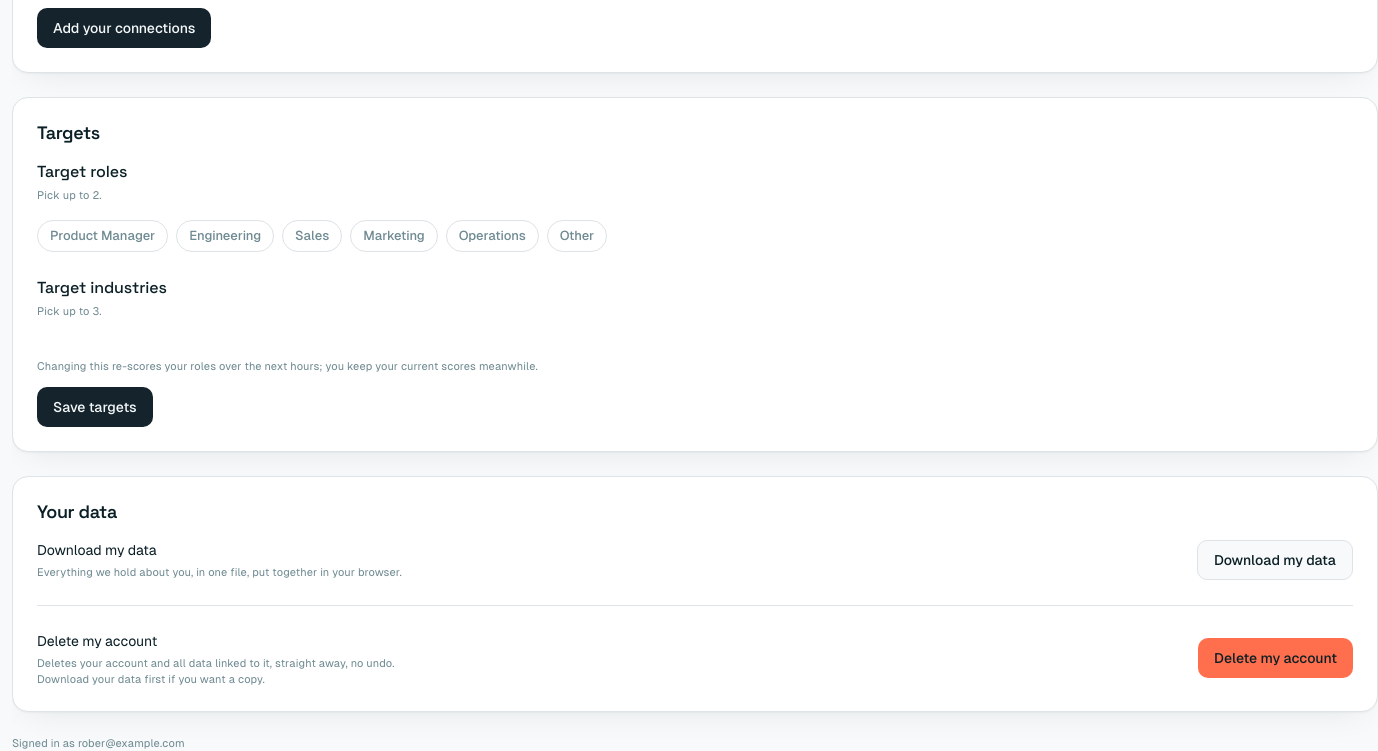
SettingsPanel — account section (issue #84, restructured #156) › the typed word (any case) unlocks the delete, and Cancel backs out clean
The image size is (1378, 751).
(page scrolled)
Click the button "Delete my account".
click(1276, 658)  # box x1=1198 y1=638 x2=1353 y2=678
(page scrolled)
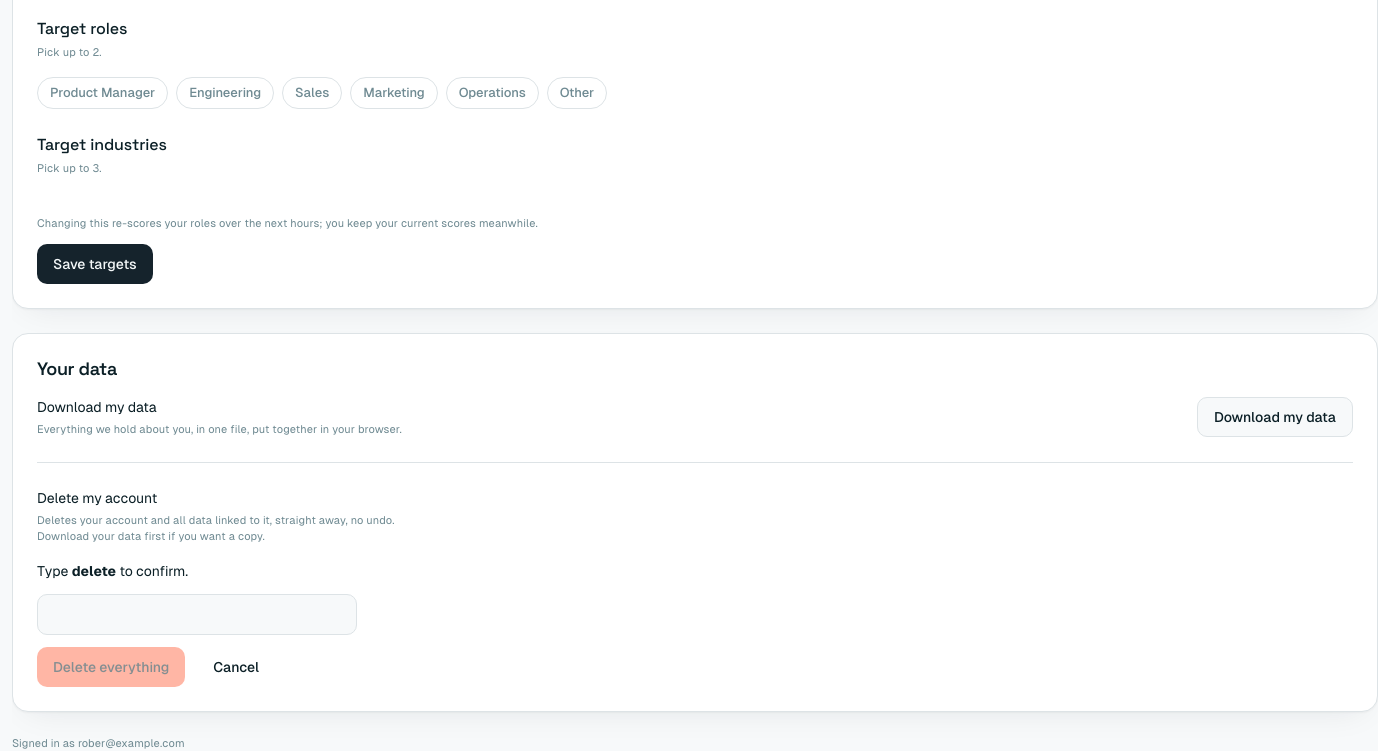
Type " DELETE " into the field labelled "Type delete to confirm.".
click(197, 615); type(" DELETE ")  # box x1=37 y1=594 x2=357 y2=635
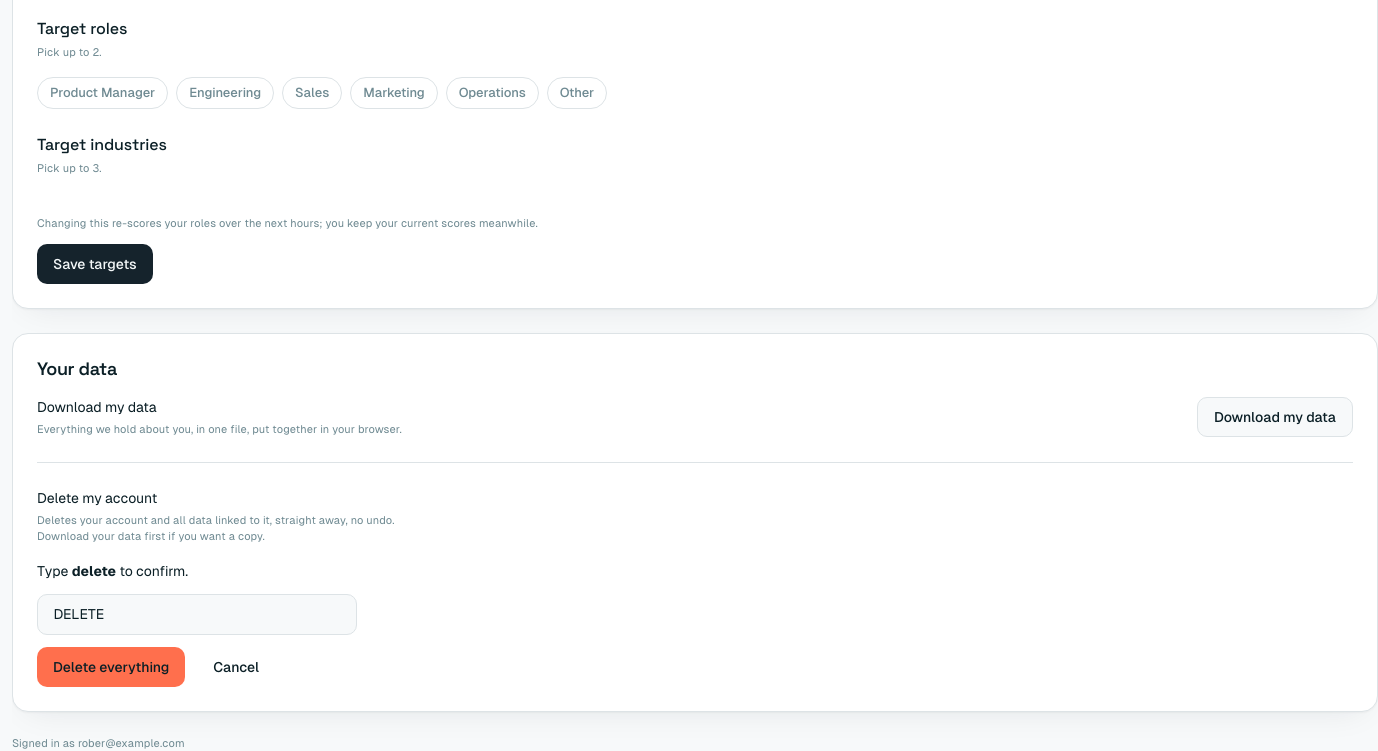
Click the button "Cancel".
click(236, 667)  # box x1=197 y1=647 x2=275 y2=687
(page scrolled)
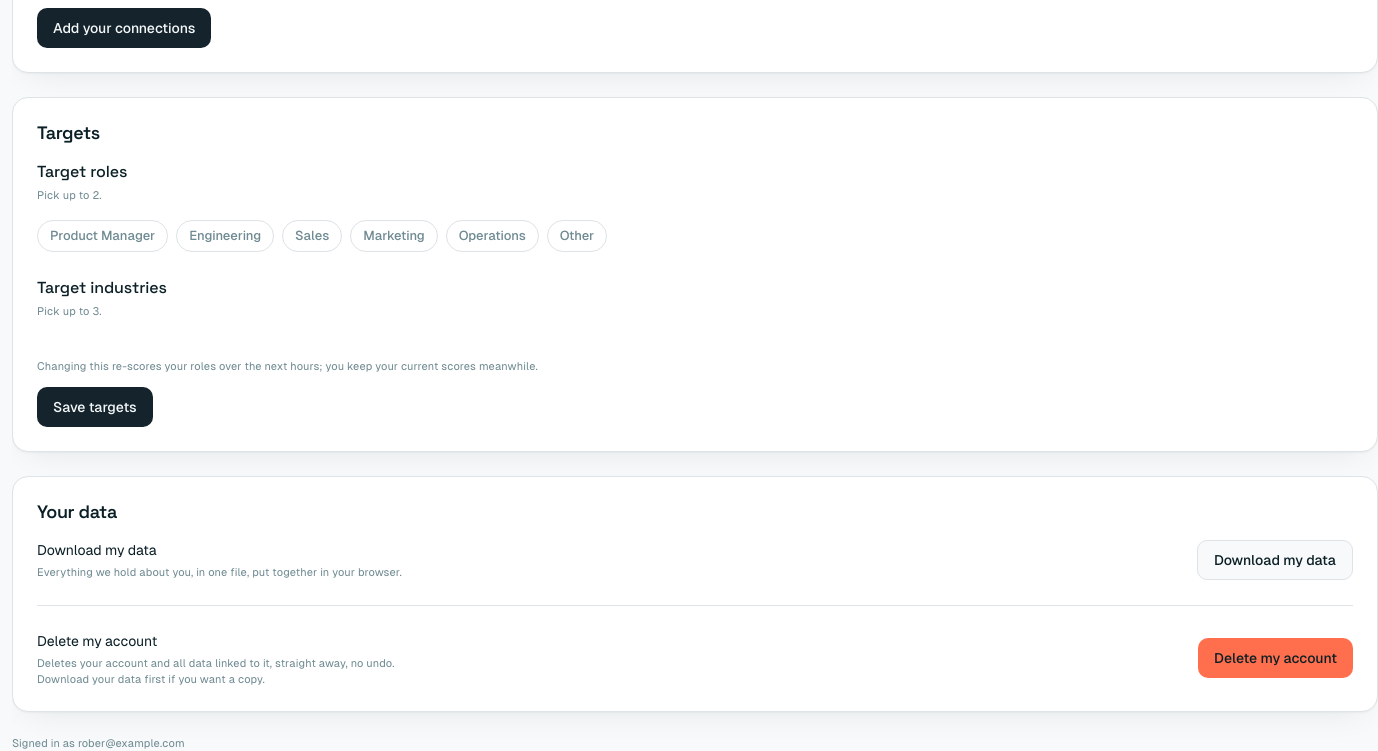
Check: the button "Delete everything" is gone
Click the button "Delete my account".
click(1276, 658)  # box x1=1198 y1=638 x2=1353 y2=678
(page scrolled)
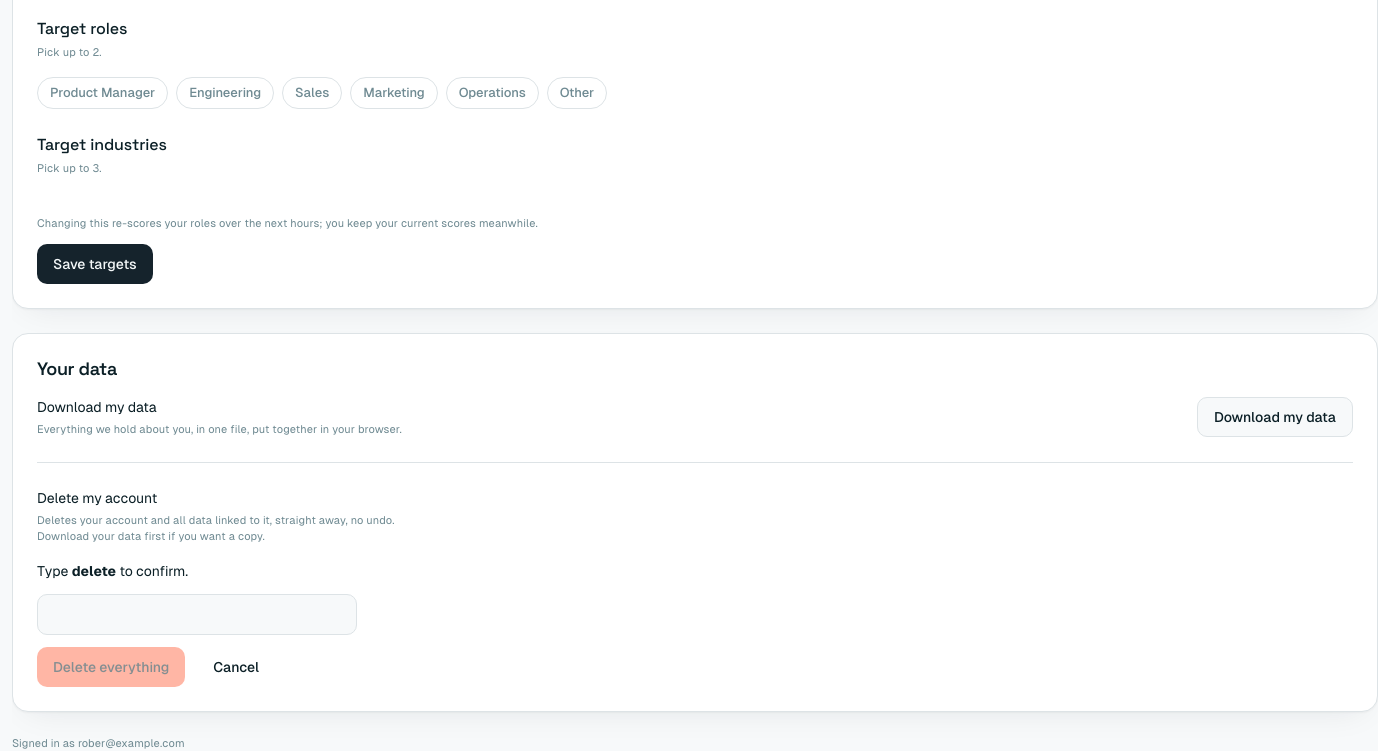
Check: the button "Delete everything" is disabled, box x1=37 y1=647 x2=185 y2=687
